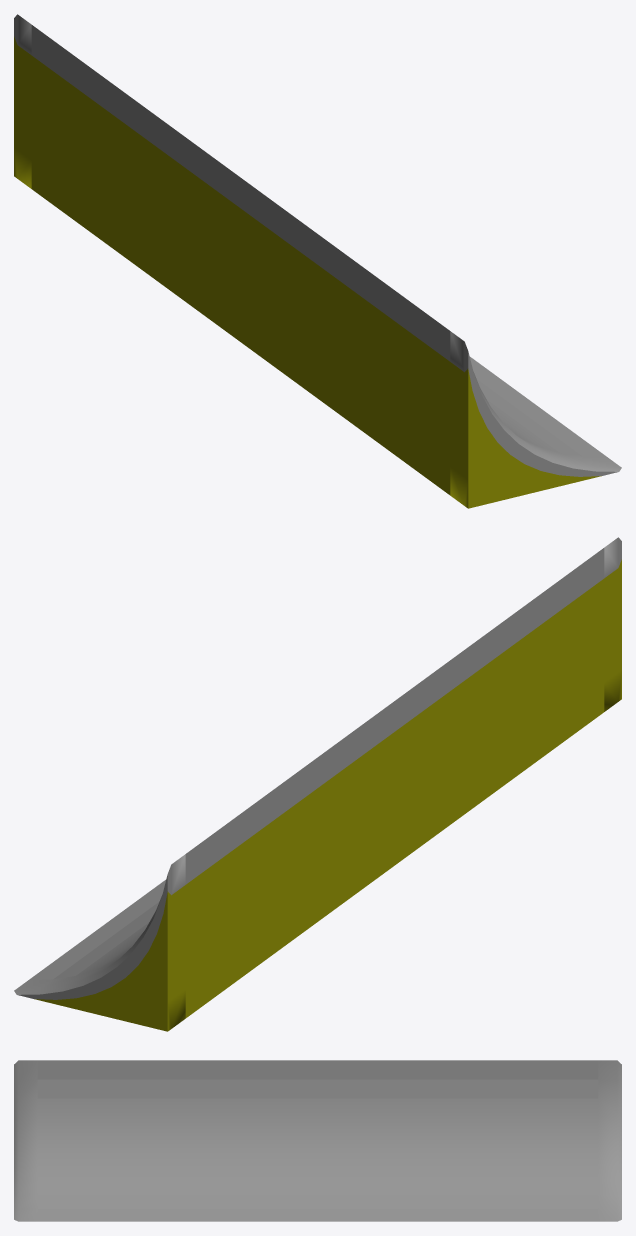
The model's file is Mesh_Levelblock_Curve2_Ramp.FBX.
3 renders of one model, top to bottom at view 1: azimuth 30°, elevation 25°; view 2: azimuth 150°, elevation 25°; view 3: azimuth 270°, elevation 25°, orthographic. The views are drawn at different scales.
Parts seen in each view (by area): view 1: Mesh_Pipe2; view 2: Mesh_Pipe2; view 3: Mesh_Pipe2.
Boxes of the visible parts, box(x1,y1,x2,y2) form: Mesh_Pipe2: box(14, 14, 621, 508); Mesh_Pipe2: box(14, 537, 621, 1031); Mesh_Pipe2: box(14, 1060, 621, 1221).
Bounding box in the file's own units: 2 × 2 × 10.
